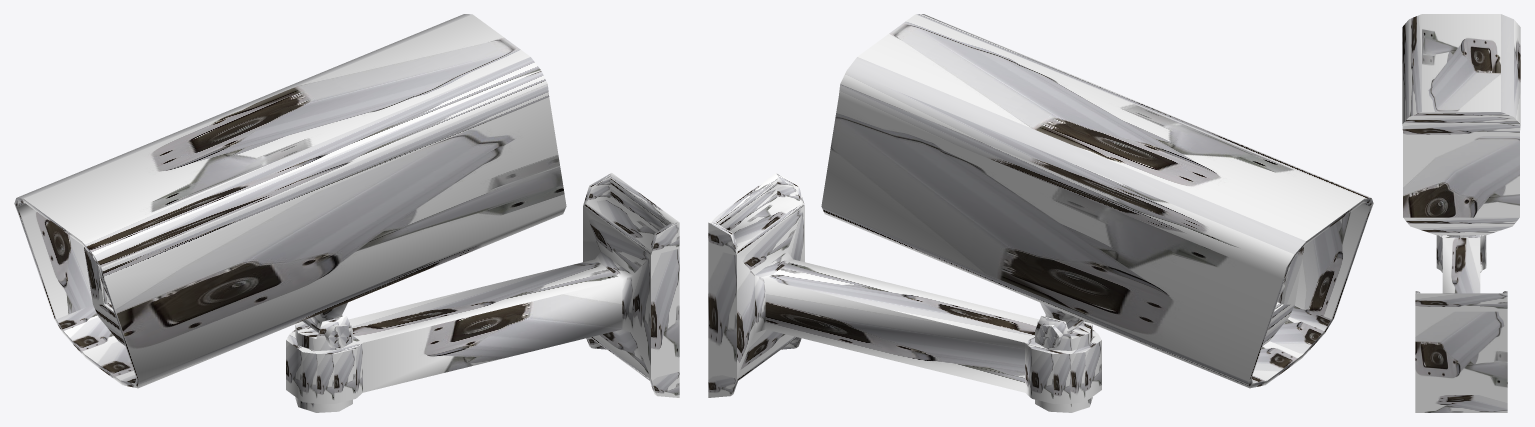
The model's file is securitycamera.fbx.
The picture shows the model from 3 angles, left to right: view 1: azimuth 30°, elevation 25°; view 2: azimuth 150°, elevation 25°; view 3: azimuth 270°, elevation 25°; orthographic projection. The views are drawn at different scales.
Parts seen in each view (by area): view 1: securitycamera; view 2: securitycamera; view 3: securitycamera.
Part boxes in pixels (<box>): securitycamera: <box>14,14,679,412</box>; securitycamera: <box>708,14,1373,412</box>; securitycamera: <box>1402,14,1520,412</box>.
Size of the model in its own units: 0.454 by 0.2727 by 0.1154.
